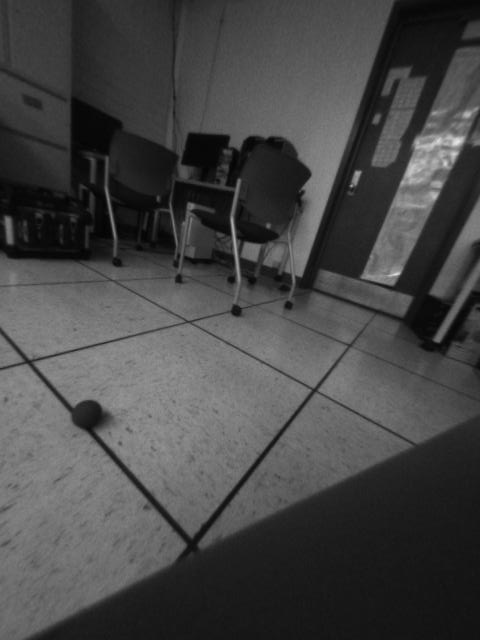dogtoy: (64, 396, 111, 435)
